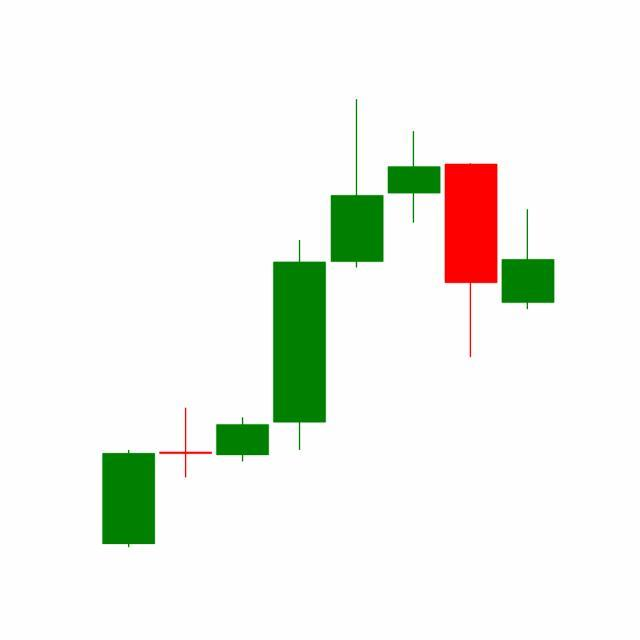Evening Star: (328, 99, 500, 362)
